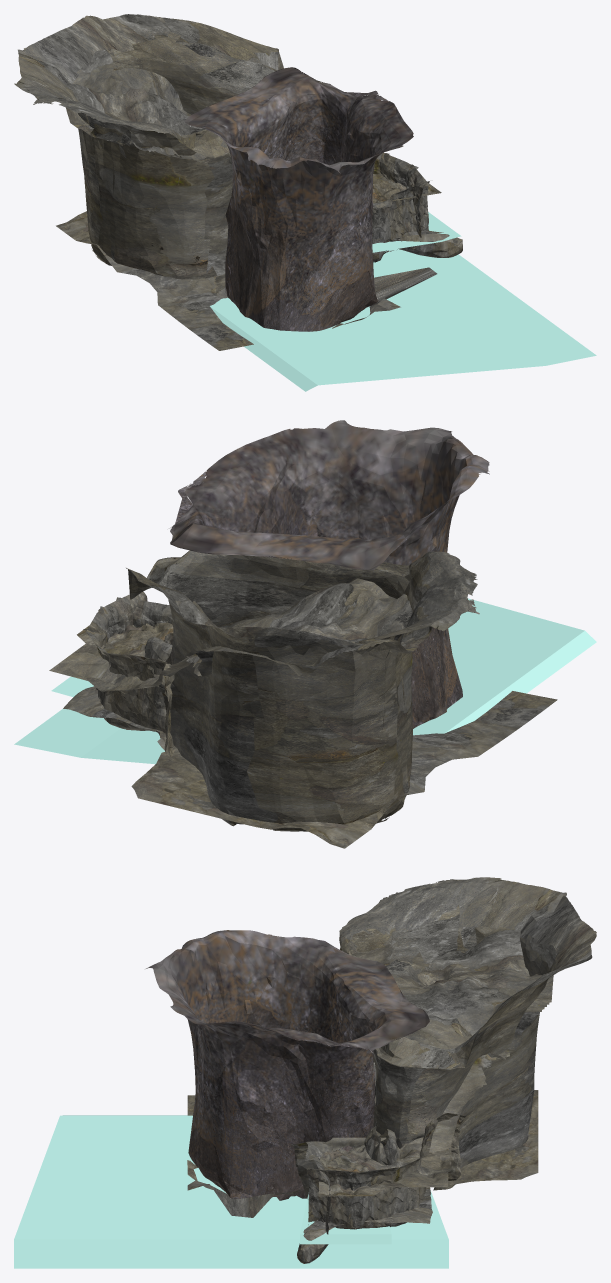
File: cave.fbx
The picture shows the model from 3 angles, top to bottom: view 1: azimuth 30°, elevation 25°; view 2: azimuth 150°, elevation 25°; view 3: azimuth 270°, elevation 25°; orthographic projection. The views are drawn at different scales.
Parts seen in each view (by area): view 1: Landscape.012, Landscape.011, Landscape_plane.002, Landscape.001, Plane, Landscape.005, Landscape.009, Landscape.002, Landscape_plane.001; view 2: Landscape.011, Landscape.012, Landscape_plane.002, Landscape.001, Plane, Landscape.009, Landscape.002, Landscape.005, Landscape.008; view 3: Landscape.012, Landscape_plane.002, Landscape.011, Landscape.001, Landscape.009, Plane, Landscape.002, Landscape_plane.001, Landscape.005, Landscape.008.
Boxes of the visible parts, <box> form: Landscape.012: <box>184,67,413,331</box>; Landscape.011: <box>14,14,283,279</box>; Landscape_plane.002: <box>210,249,596,391</box>; Landscape.001: <box>65,68,441,203</box>; Plane: <box>56,211,437,350</box>; Landscape.005: <box>372,181,429,262</box>; Landscape.009: <box>373,152,429,249</box>; Landscape.002: <box>372,230,462,257</box>; Landscape_plane.001: <box>372,212,461,252</box>; Landscape.011: <box>126,550,479,831</box>; Landscape.012: <box>169,420,489,728</box>; Landscape_plane.002: <box>14,598,596,764</box>; Landscape.001: <box>49,578,432,693</box>; Plane: <box>131,691,557,848</box>; Landscape.009: <box>83,592,174,757</box>; Landscape.002: <box>63,686,178,751</box>; Landscape.005: <box>116,597,172,627</box>; Landscape.008: <box>144,633,173,661</box>; Landscape.012: <box>146,930,429,1200</box>; Landscape_plane.002: <box>14,1115,448,1268</box>; Landscape.011: <box>339,877,596,1190</box>; Landscape.001: <box>318,927,553,1198</box>; Landscape.009: <box>307,1113,466,1229</box>; Plane: <box>187,1090,538,1217</box>; Landscape.002: <box>297,1181,450,1263</box>; Landscape_plane.001: <box>300,1194,391,1244</box>; Landscape.005: <box>291,1141,332,1234</box>; Landscape.008: <box>364,1121,401,1165</box>.
Bounding box in the file's own units: 6596 × 3754 × 8652.
Materials: 6 (4 with a texture image).
